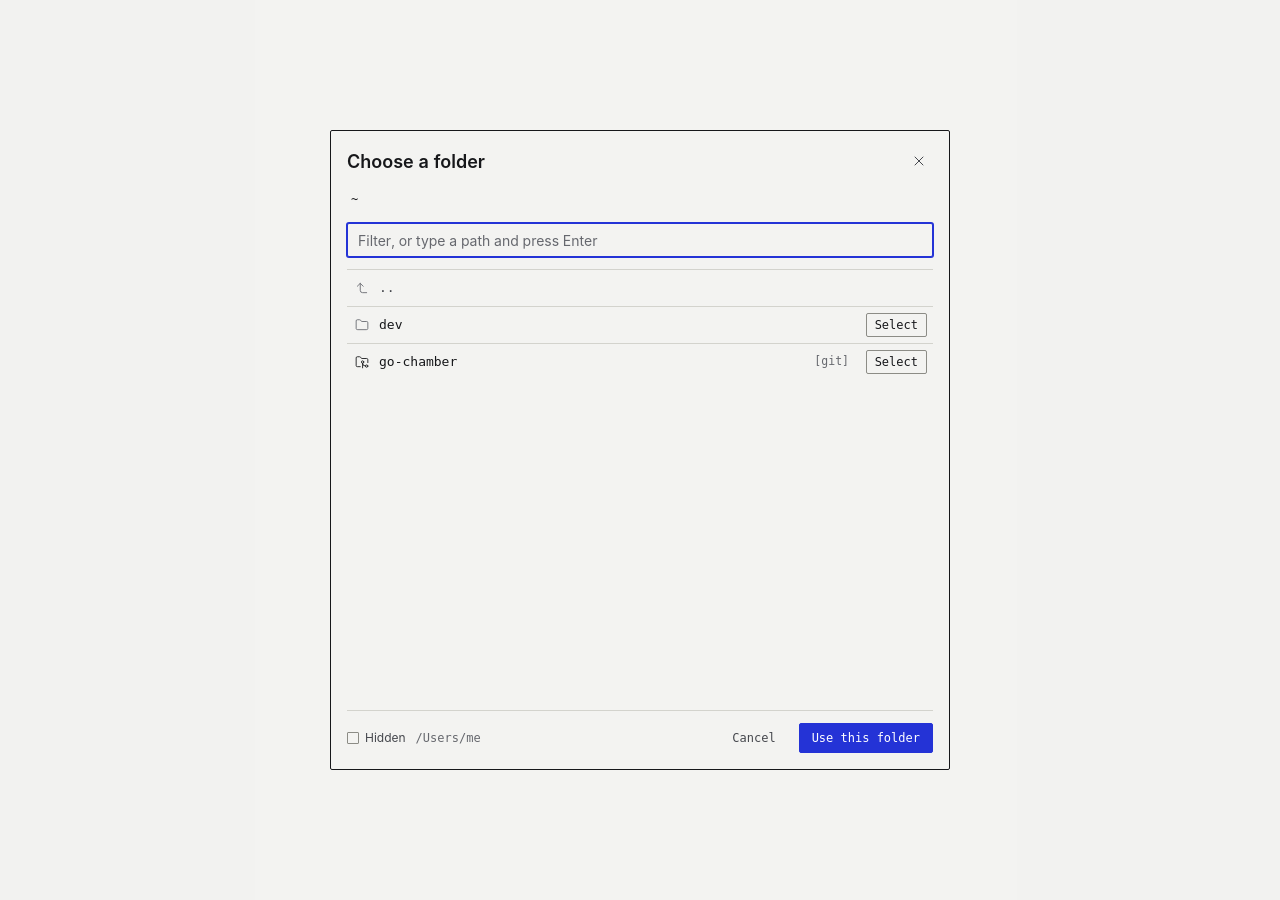
Test: FolderPicker › retries a failed move with the listing still shown
Click the button "dev" at (362, 325), box [347,307,933,343]
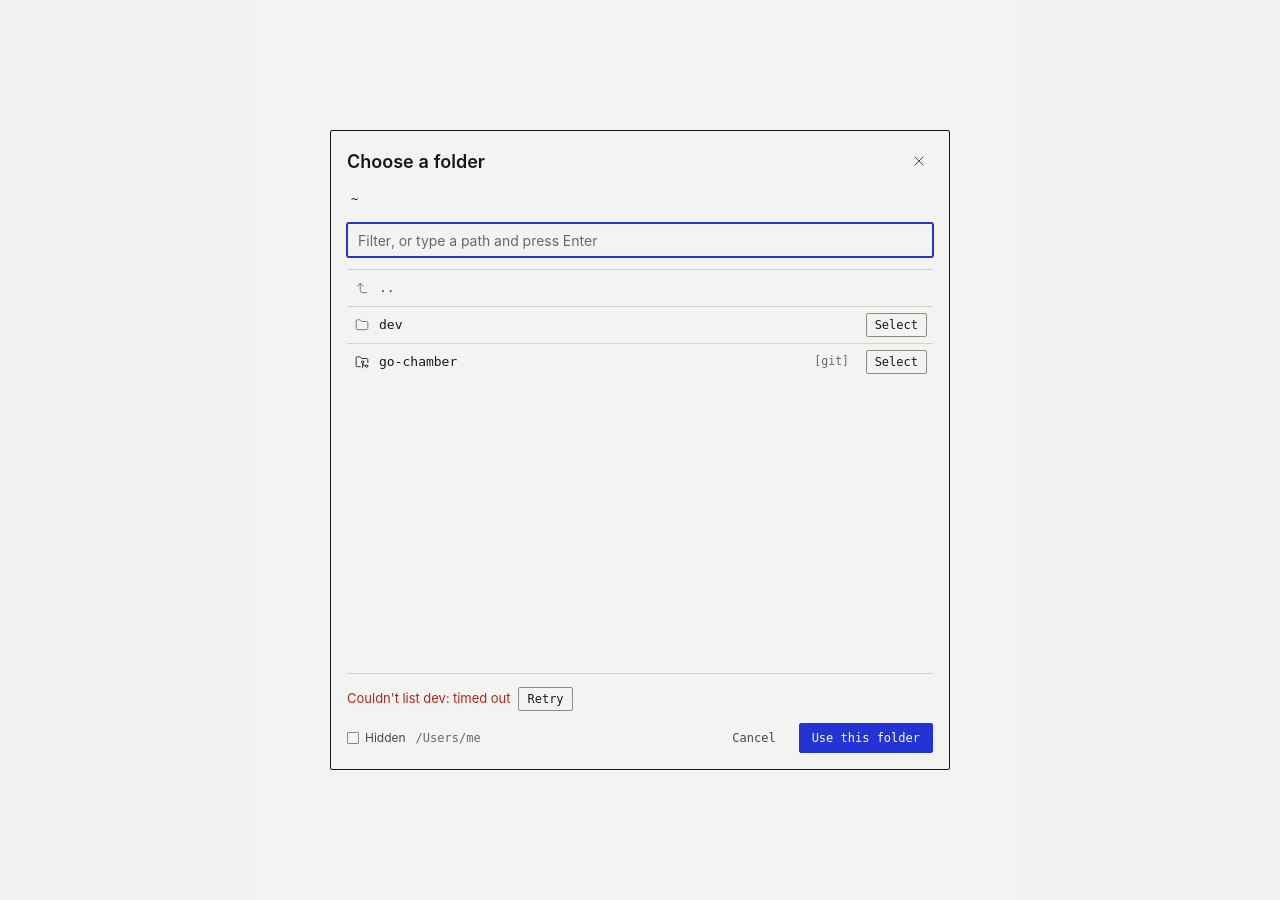
Check: the message shows "timed out", box [347,686,573,711]
Click the button "Retry" at (546, 699), box [518,687,573,711]
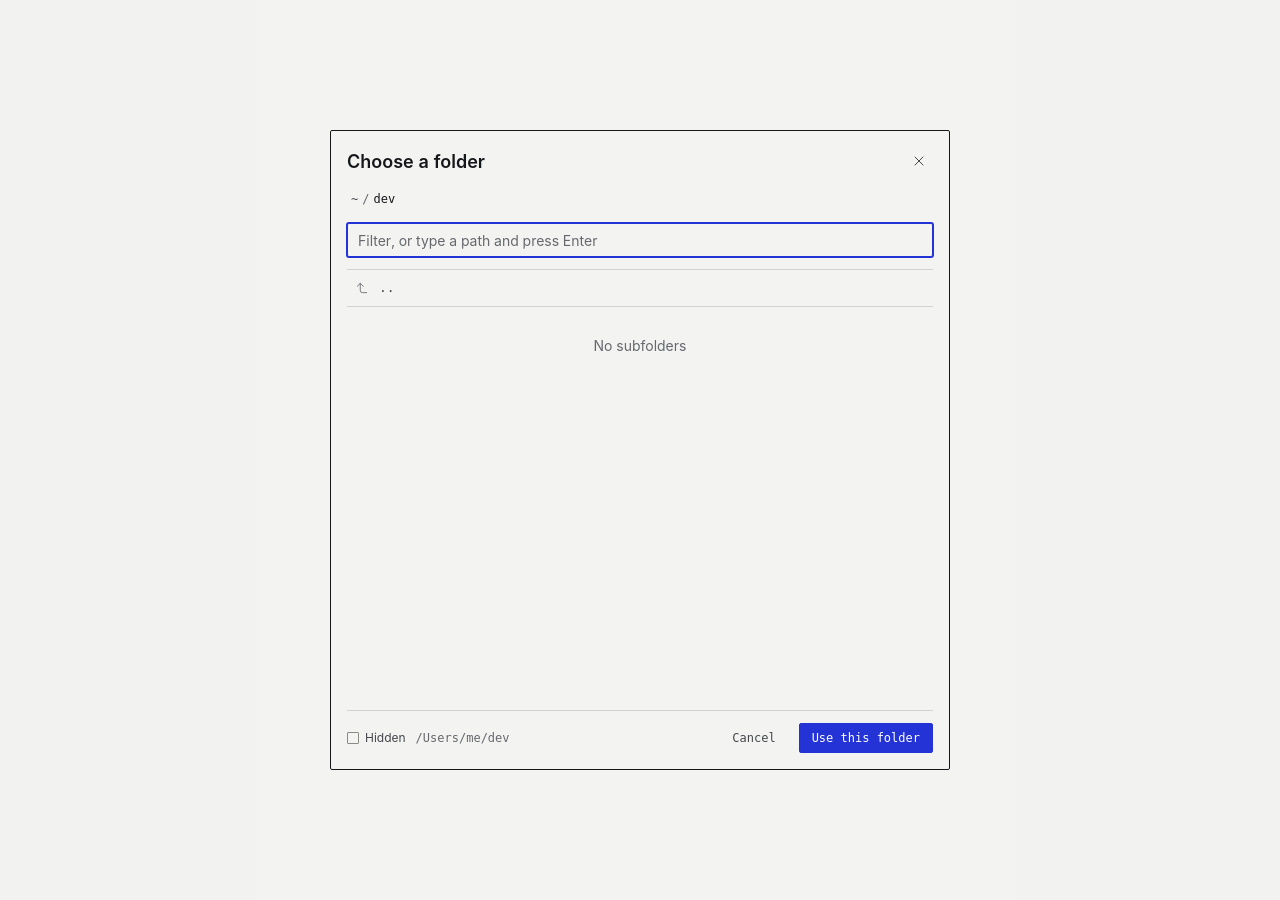
Check: the list item "No subfolders" is shown, box [347,306,933,384]
Check: the text "timed out" is gone
